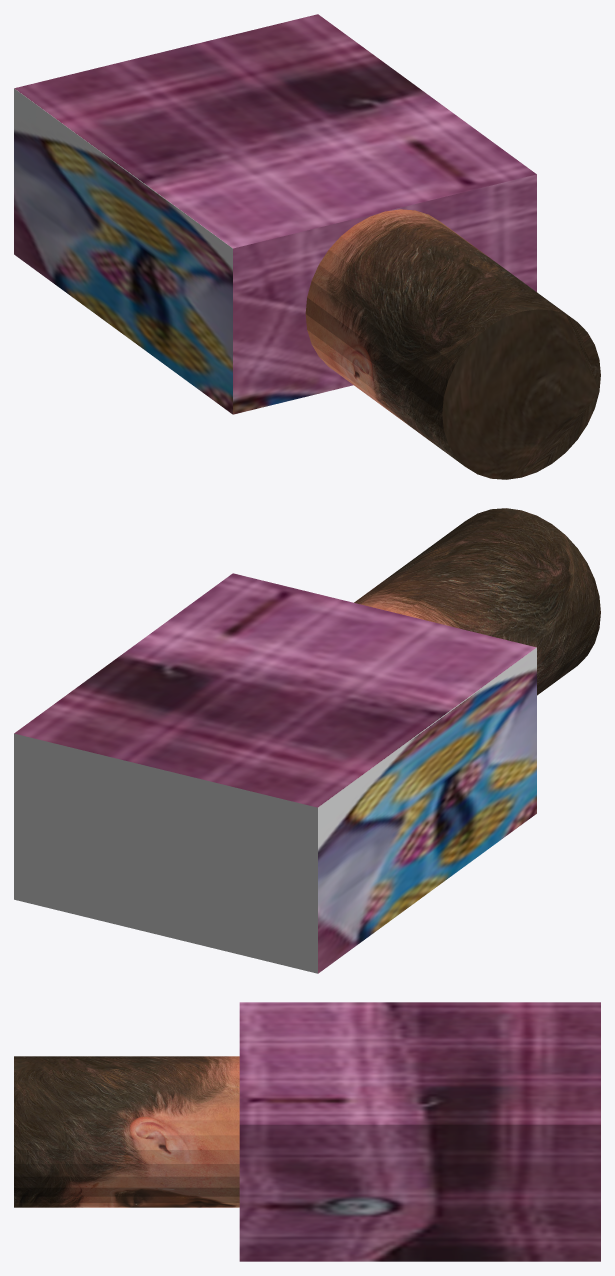
File: saul.obj
The picture shows the model from 3 angles, top to bottom: view 1: azimuth 30°, elevation 25°; view 2: azimuth 150°, elevation 25°; view 3: azimuth 270°, elevation 25°; orthographic projection. The views are drawn at different scales.
Parts seen in each view (by area): view 1: Cube_Cube.001, Cylinder; view 2: Cube_Cube.001, Cylinder; view 3: Cube_Cube.001, Cylinder.
Boxes of the visible parts, left/top/right/bottom form: Cube_Cube.001: left=14, top=14, right=536, bottom=414; Cylinder: left=305, top=209, right=600, bottom=479; Cube_Cube.001: left=14, top=573, right=536, bottom=973; Cylinder: left=354, top=508, right=600, bottom=695; Cube_Cube.001: left=239, top=1002, right=600, bottom=1261; Cylinder: left=14, top=1056, right=239, bottom=1207.
Bounding box in the file's own units: 3.83 × 2 × 7.76.
Materials: 3 (2 with a texture image).
